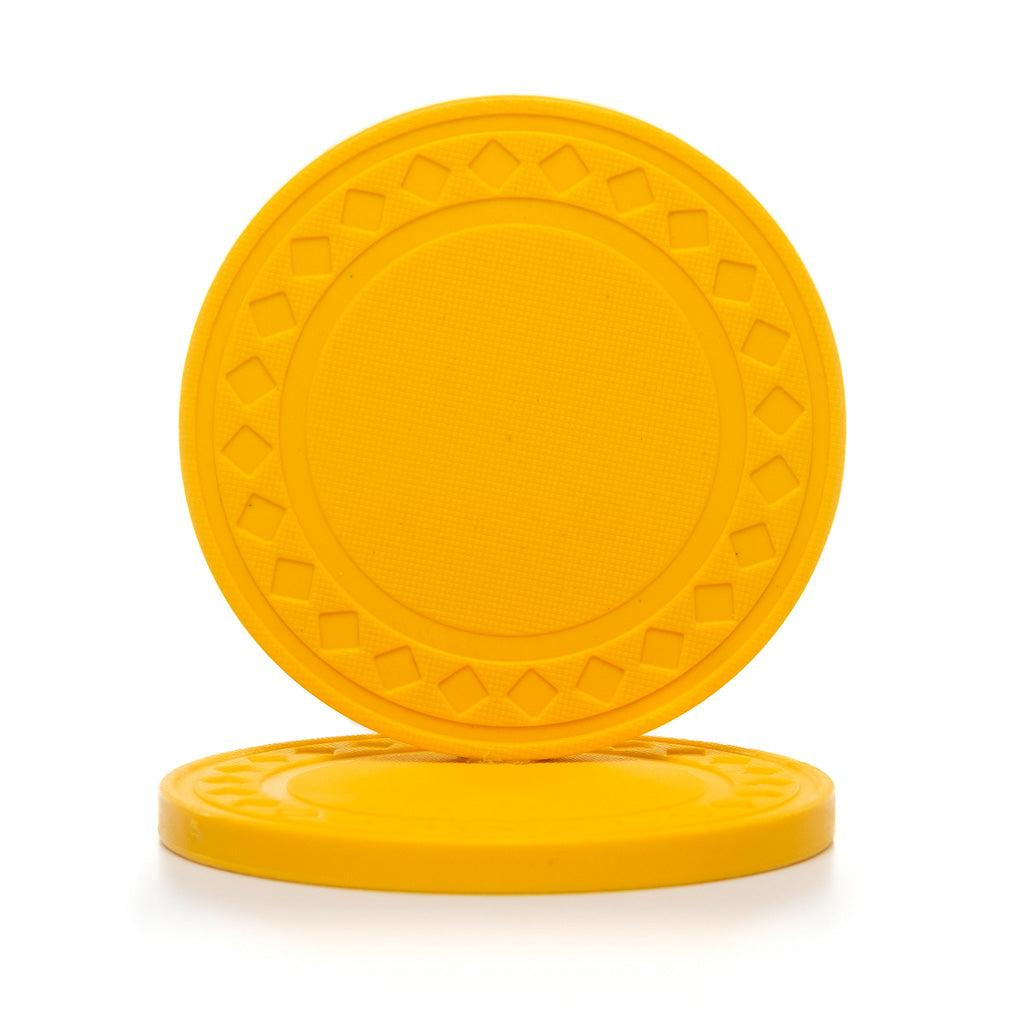chip-yellow: (180, 96, 844, 759), (158, 736, 834, 894)
